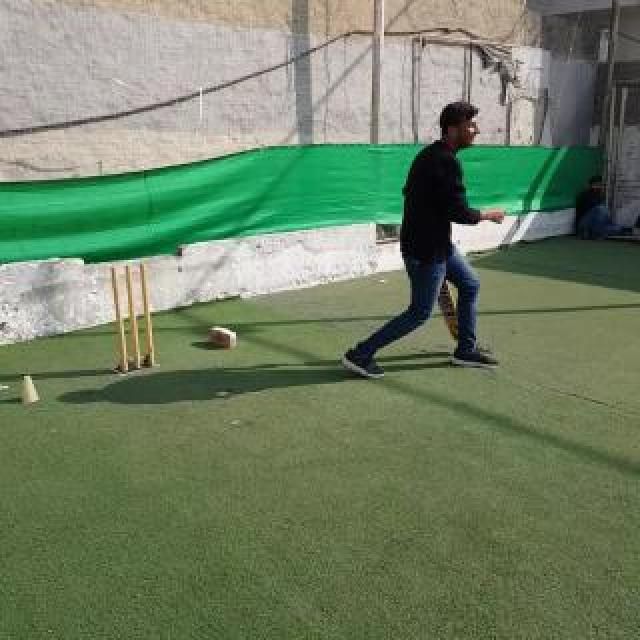bat: (438, 280, 460, 342)
